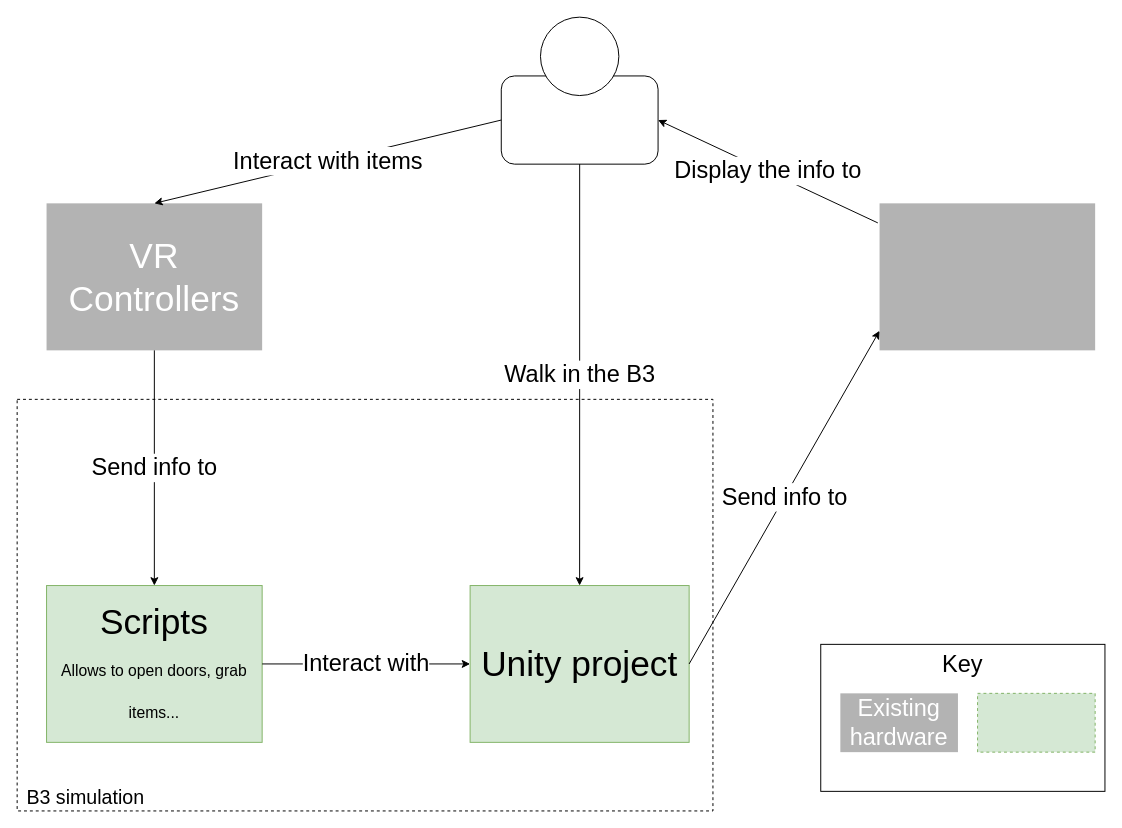
The diagram is 1122 pixels wide and 828 high, and some of its shapes have lost their labels. The centre of each missing label's shape, as x and y in pixels:
"Tester" goes at point (579, 119).
"To be built software" goes at point (1036, 722).
"VR Headset Oculus Quest 2" goes at point (987, 276).
